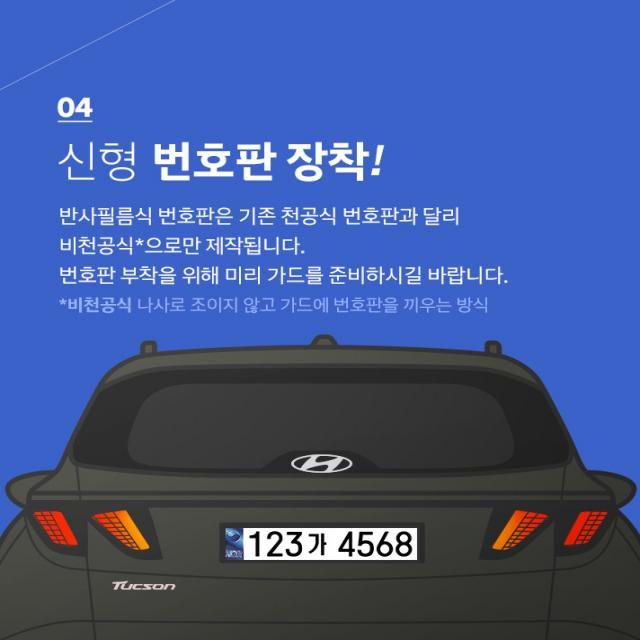illegal_plate: (220, 516, 426, 574)
